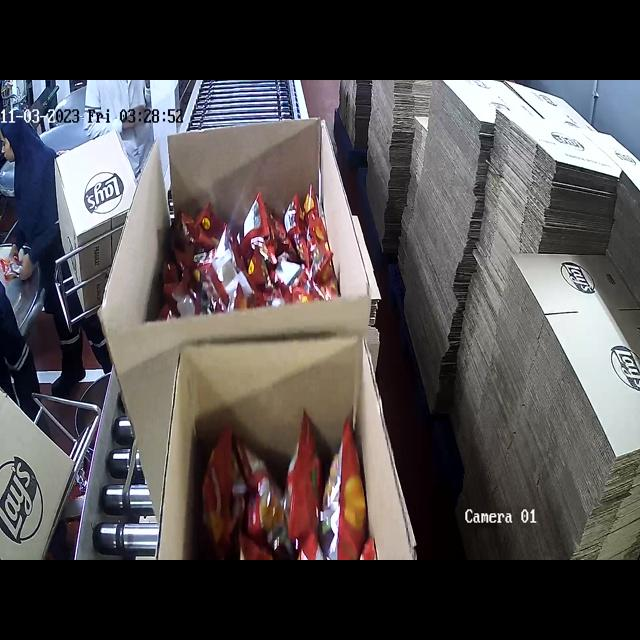masala: (203, 416, 379, 559), (159, 191, 339, 304)
